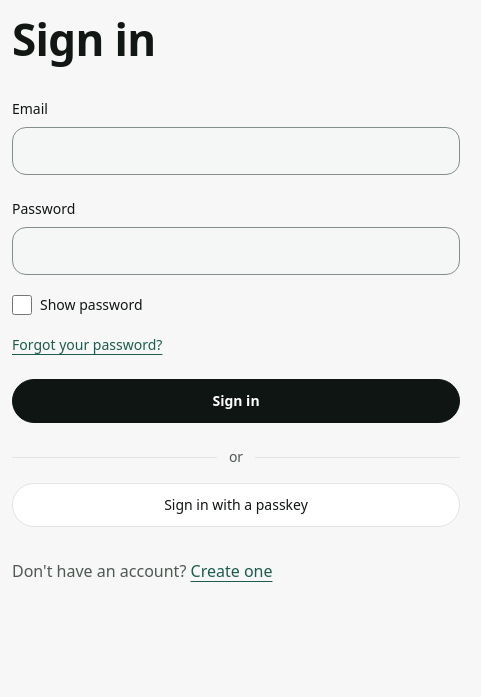
Test: SignInPage › explains rate limiting
This screenshot has width=481, height=697.
Type "reader@example.com" into the field labelled "Email".
click(236, 151); type("reader@example.com")  # box [12, 127, 460, 175]
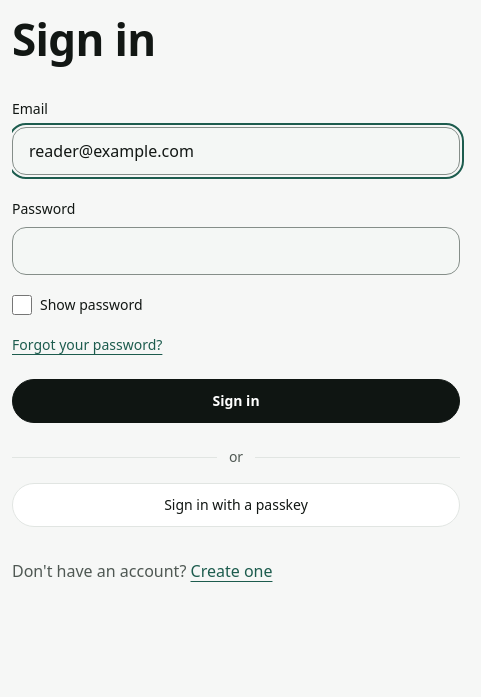
Type "correct horse battery staple 42" into the password field labelled "Password".
click(236, 251); type("correct horse battery staple 42")  # box [12, 227, 460, 275]
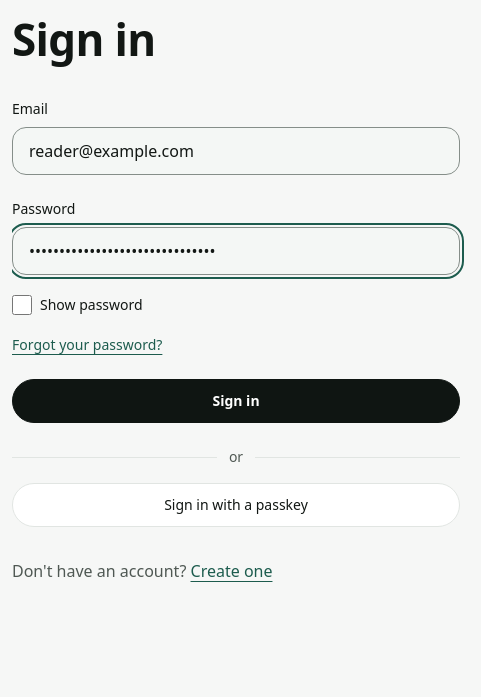
Click the button "Sign in".
click(236, 401)  # box [12, 379, 460, 423]
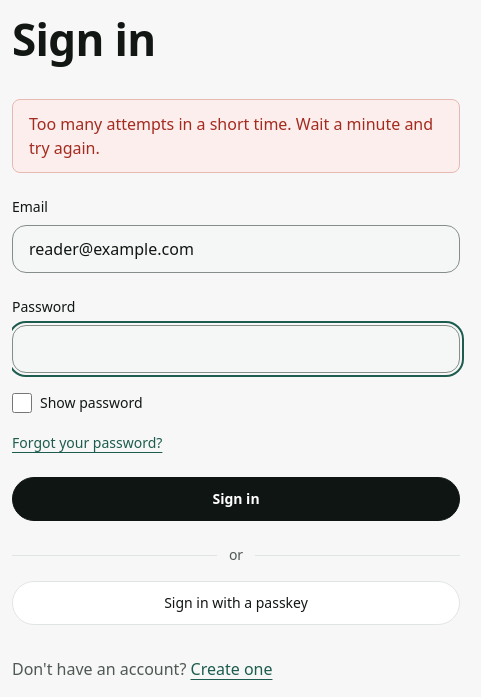
expect the message shows "Too many attempts": met, box [29, 113, 433, 159]
